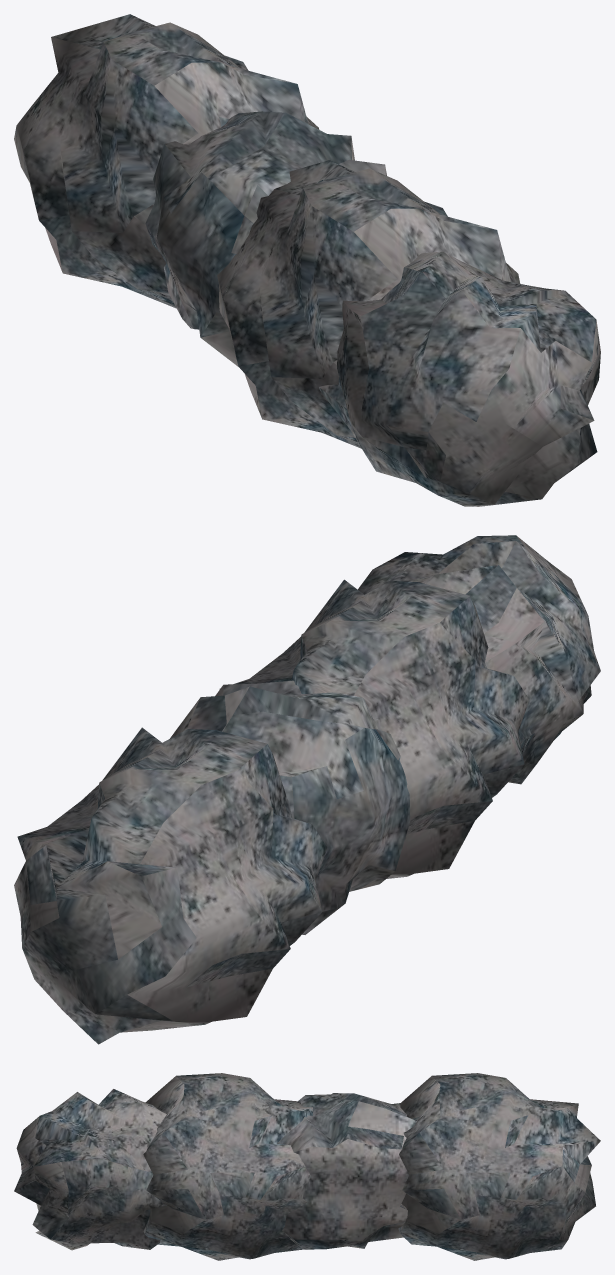
The model's file is turd.fbx.
The picture shows the model from 3 angles, top to bottom: view 1: azimuth 30°, elevation 25°; view 2: azimuth 150°, elevation 25°; view 3: azimuth 270°, elevation 25°; orthographic projection. The views are drawn at different scales.
Parts seen in each view (by area): view 1: Cube.004, Cube.001, Cube.003, Cube.002; view 2: Cube.001, Cube.003, Cube.002, Cube.004; view 3: Cube.001, Cube.003, Cube.004, Cube.002.
Part boxes in pixels (<box>): Cube.004: <box>319,251,600,506</box>; Cube.001: <box>14,14,319,308</box>; Cube.003: <box>217,160,520,448</box>; Cube.002: <box>145,111,386,366</box>; Cube.001: <box>14,727,327,1044</box>; Cube.003: <box>219,579,529,878</box>; Cube.002: <box>170,680,410,934</box>; Cube.004: <box>358,535,600,784</box>; Cube.001: <box>398,1073,600,1260</box>; Cube.003: <box>143,1073,312,1260</box>; Cube.004: <box>14,1089,166,1250</box>; Cube.002: <box>277,1093,416,1249</box>.
Bounding box in the file's own units: 4.02 × 4.03 × 12.71.
1 material, 1 textured.
